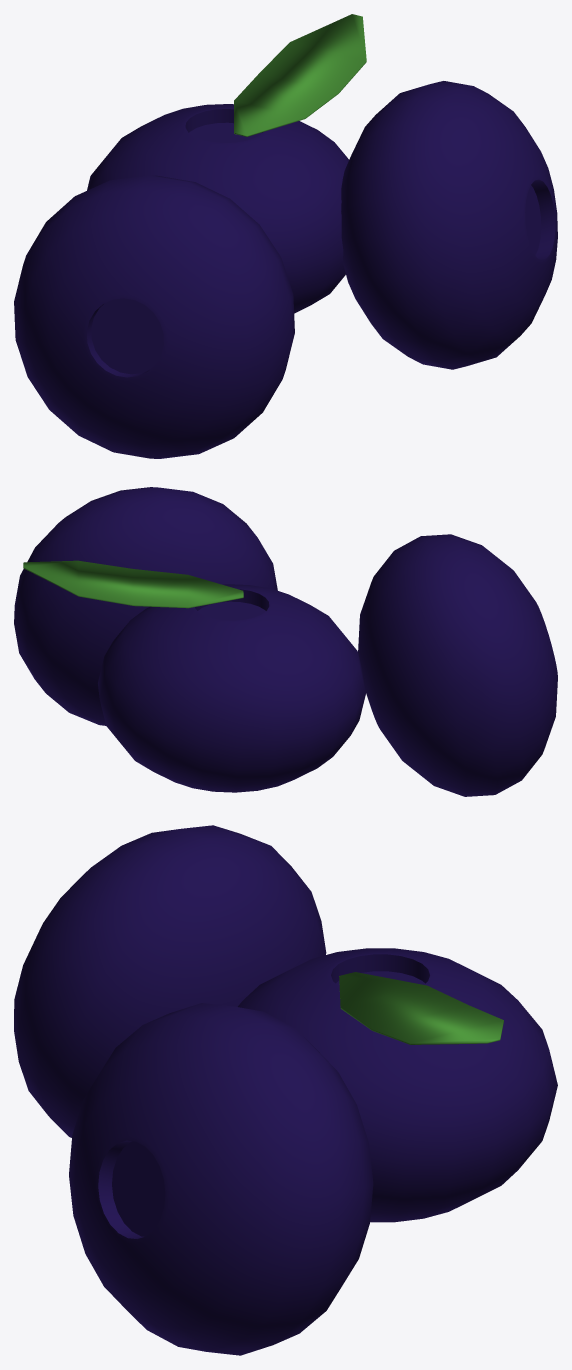
The model's file is bayas.fbx.
The picture shows the model from 3 angles, top to bottom: view 1: azimuth 30°, elevation 25°; view 2: azimuth 150°, elevation 25°; view 3: azimuth 270°, elevation 25°; orthographic projection. The views are drawn at different scales.
Visible parts, largest first — view 1: Bayas; view 2: Bayas; view 3: Bayas.
Boxes of the visible parts, x1=… form: Bayas: x1=14, y1=14, x2=557, y2=458; Bayas: x1=14, y1=487, x2=557, y2=796; Bayas: x1=14, y1=825, x2=557, y2=1355.
Bounding box in the file's own units: 425 × 195 × 307.
